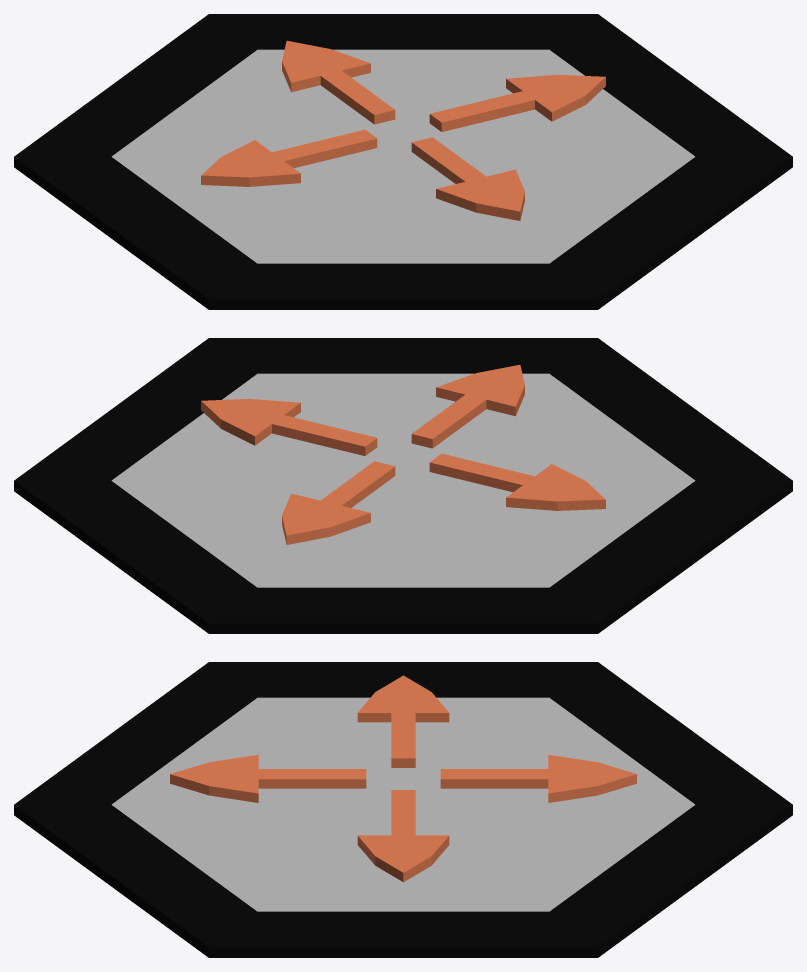
Rendered from extrude_opt.fbx.
3 views of the same model, one above another, from view 1: azimuth 30°, elevation 25°; view 2: azimuth 150°, elevation 25°; view 3: azimuth 270°, elevation 25° (orthographic).
Visible parts, largest first — view 1: Circle; view 2: Circle; view 3: Circle.
Boxes of the visible parts, x1,y1,x2,y2 form: Circle: (14, 14, 792, 309); Circle: (14, 338, 792, 633); Circle: (14, 662, 792, 957).
Size of the model in its own units: 173 by 11.65 by 200.
